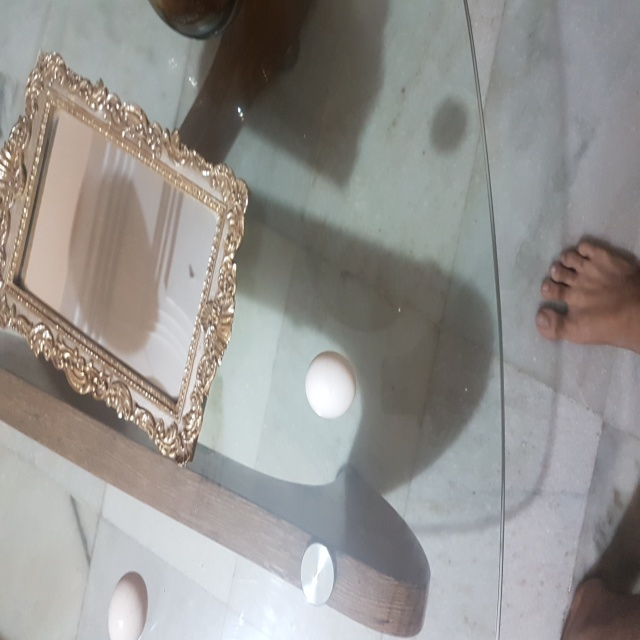eggs: (300, 349, 367, 419), (104, 569, 152, 640)
